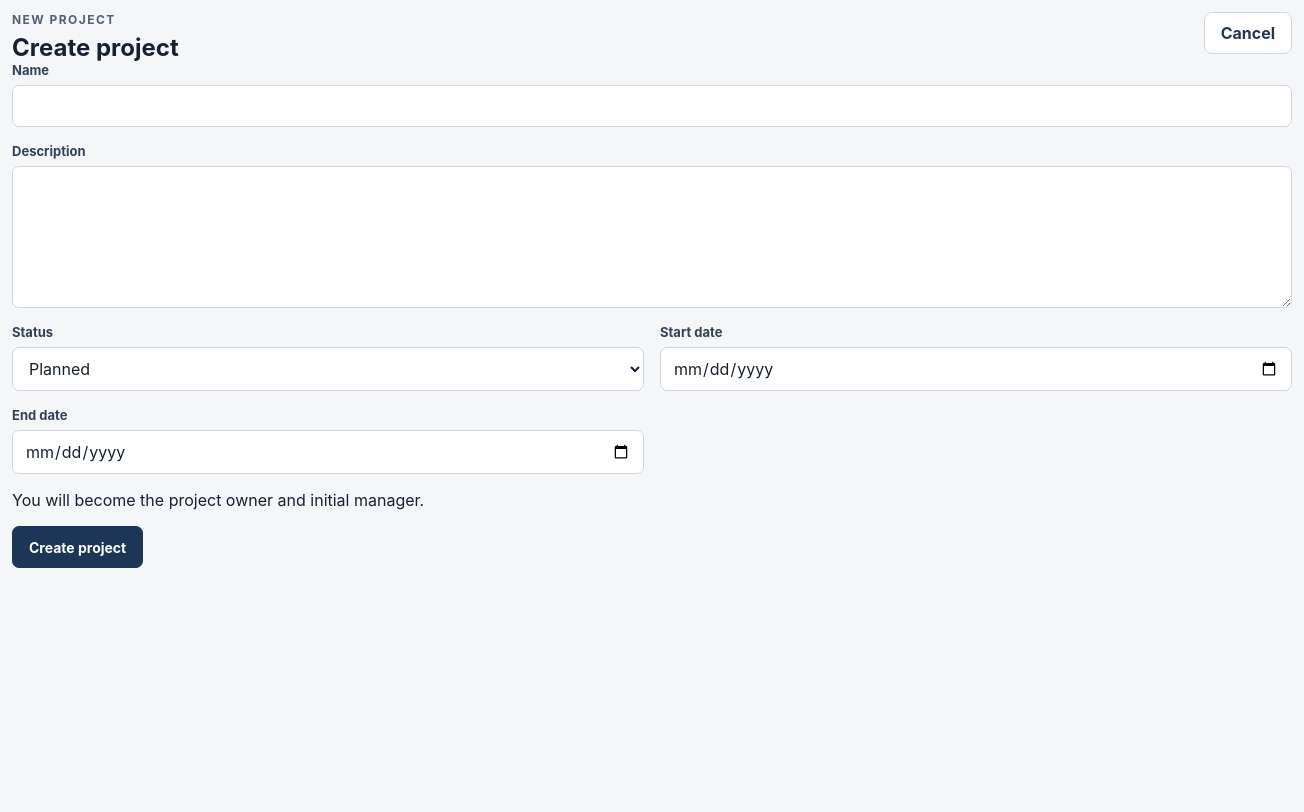
it: ProjectForm › shows a validation message returned by the API
Type "Project" into the field labelled "Name" at (652, 106), box [12,85,1292,127]
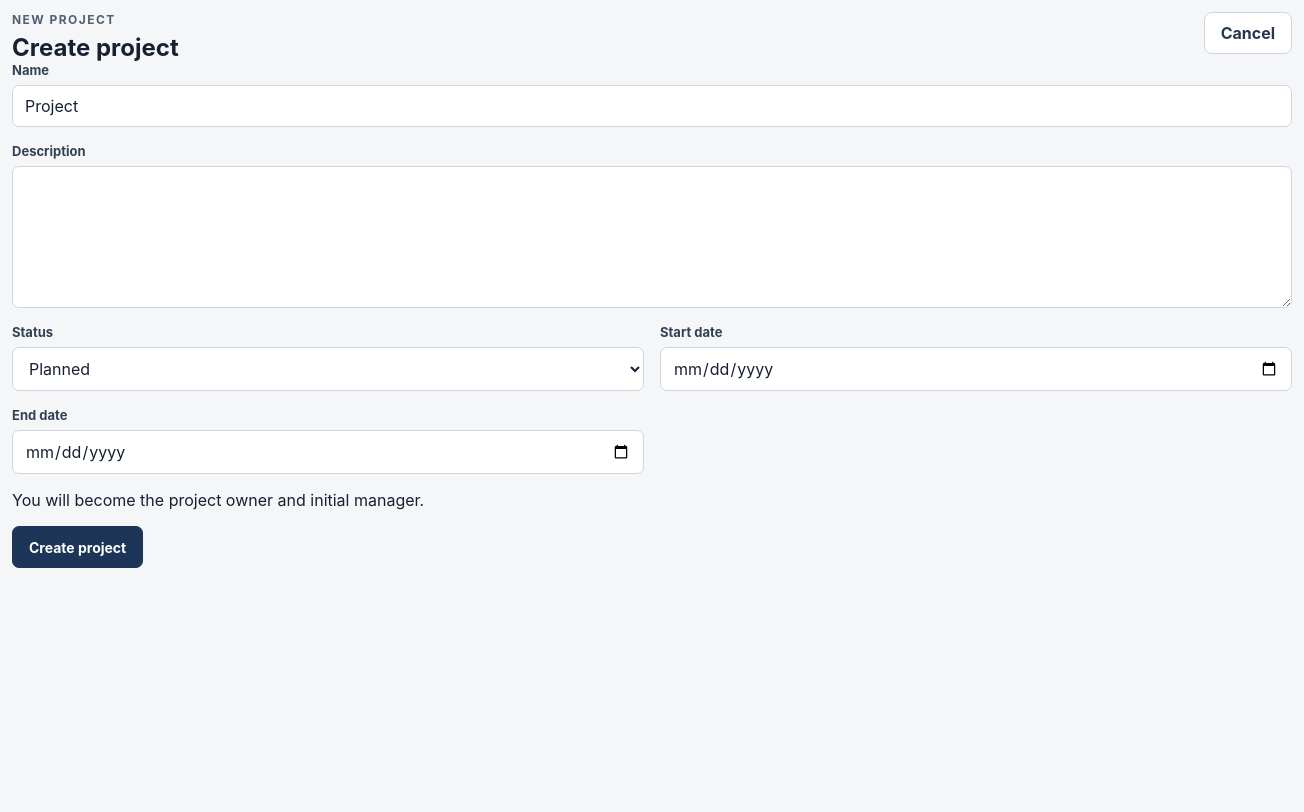
Click the button "Create project" at (78, 547), box [12,526,143,568]
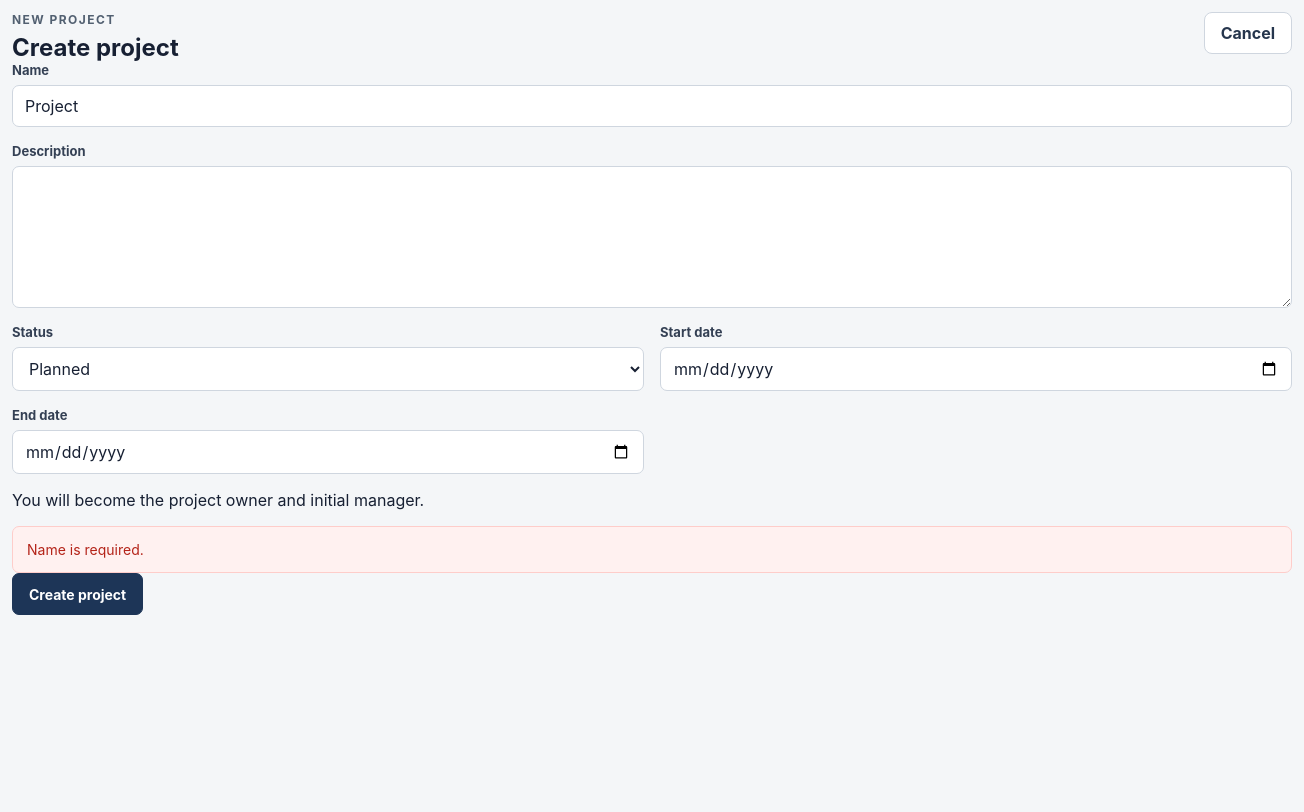
Expected: the message reads "Name is required.", [27,541,144,558]
